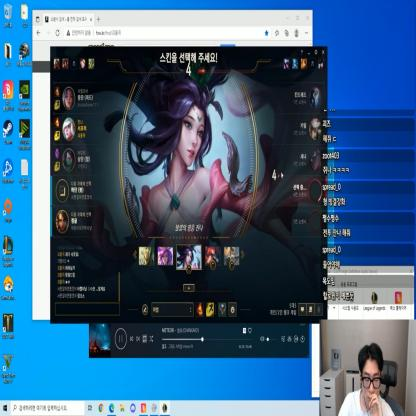streamer: (338, 342, 395, 416)
